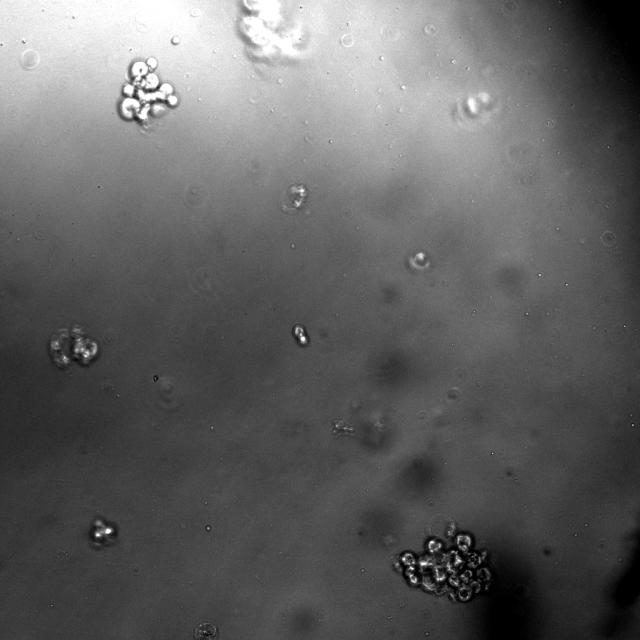organoid: (394, 524, 492, 603), (119, 58, 178, 123), (49, 326, 98, 368), (89, 517, 118, 549), (292, 324, 309, 346)
